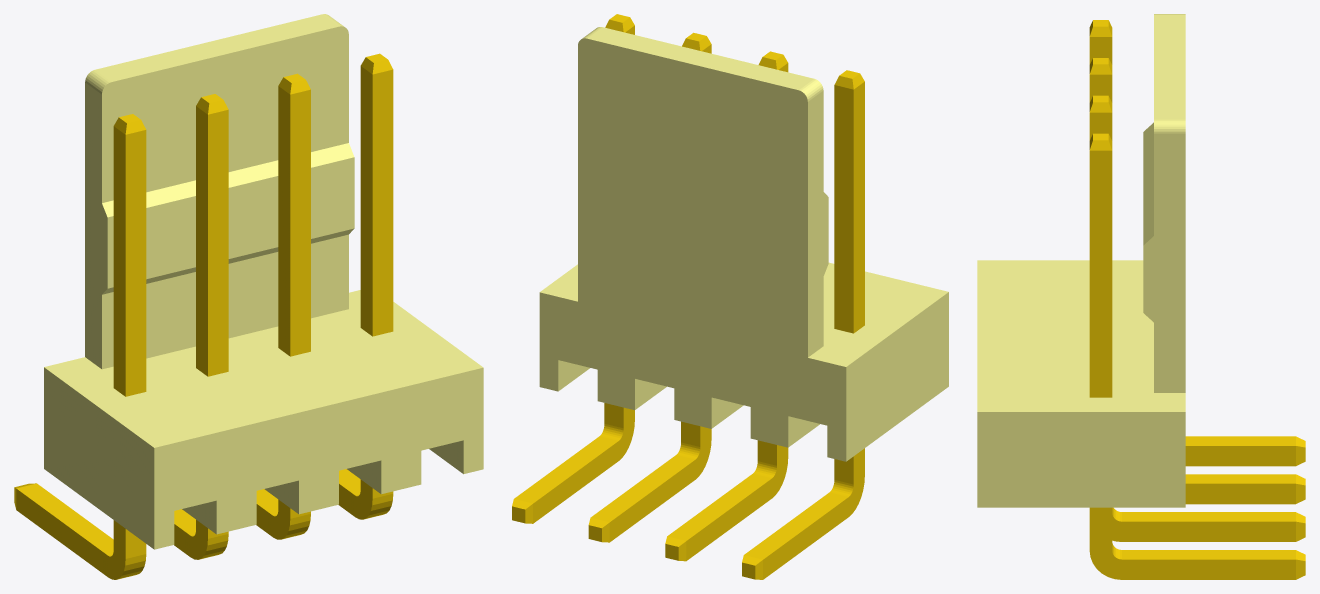
Rendered from DS1070-4MR (WF-4RA CONNFLY).obj.
3 renders of one model, left to right at view 1: azimuth 30°, elevation 25°; view 2: azimuth 150°, elevation 25°; view 3: azimuth 270°, elevation 25°, orthographic. The views are drawn at different scales.
Parts seen in each view (by area): view 1: DS1070-4MR_(WF-4RA_CONNFLY); view 2: DS1070-4MR_(WF-4RA_CONNFLY); view 3: DS1070-4MR_(WF-4RA_CONNFLY).
Boxes of the visible parts, x1=… form: DS1070-4MR_(WF-4RA_CONNFLY): x1=14, y1=14, x2=483, y2=579; DS1070-4MR_(WF-4RA_CONNFLY): x1=512, y1=14, x2=948, y2=579; DS1070-4MR_(WF-4RA_CONNFLY): x1=977, y1=14, x2=1305, y2=579.
Bounding box in the file's own units: 0.0128 × 0.0177 × 0.0117.
